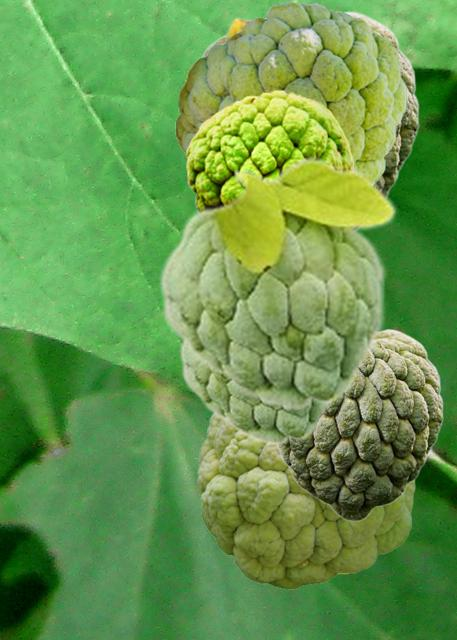atis: (157, 155, 397, 411), (175, 2, 406, 182), (201, 10, 418, 194), (197, 415, 414, 588), (277, 328, 442, 520), (185, 89, 352, 208), (178, 342, 331, 445)
